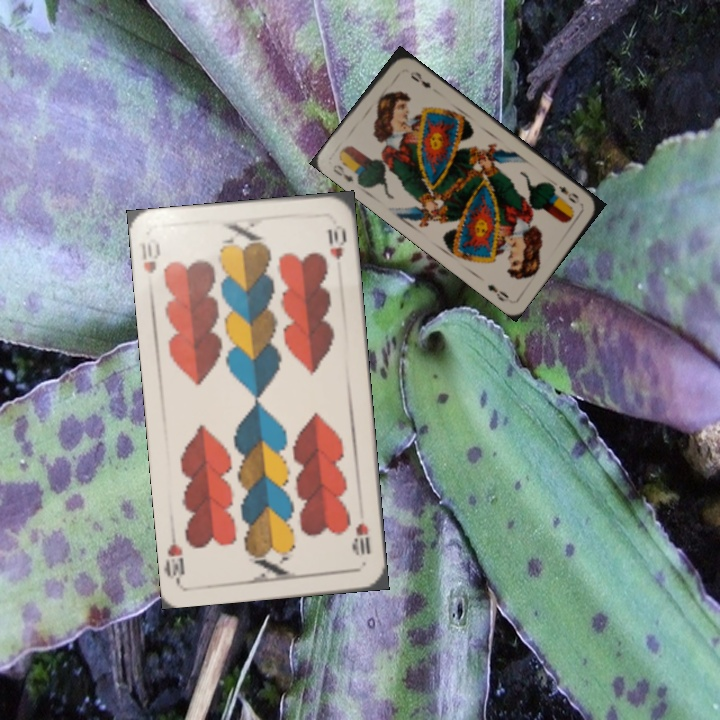EO: (554, 181, 581, 206), (329, 160, 356, 184)
H10: (136, 234, 163, 276), (349, 519, 373, 558)
